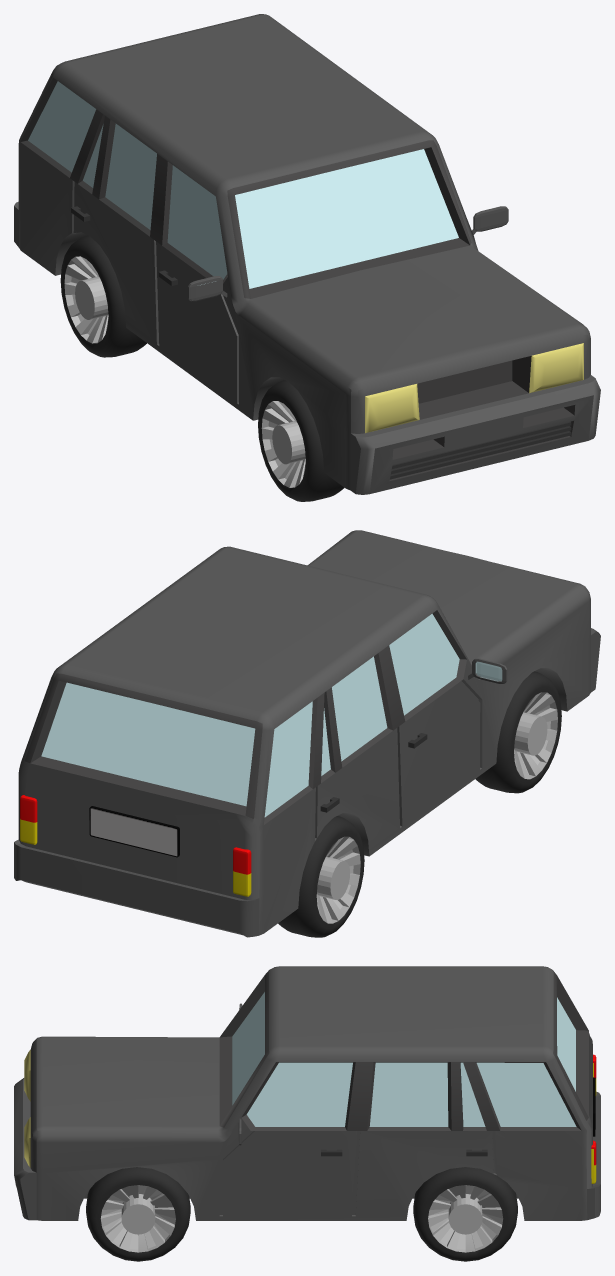
The model's file is Jhaylux.fbx.
The picture shows the model from 3 angles, top to bottom: view 1: azimuth 30°, elevation 25°; view 2: azimuth 150°, elevation 25°; view 3: azimuth 270°, elevation 25°; orthographic projection. The views are drawn at different scales.
Visible parts, largest first — view 1: polySurface5, pasted__wheel3, pasted__wheel4, pCube5, pCube6, pCube7, pCube33, pCube32; view 2: polySurface5, pasted__wheel4, pasted__wheel3, pasted__Liscense_Plate10, pCube11, pCube34, pCube32; view 3: polySurface5, pasted__wheel1, pasted__wheel5.
Part boxes in pixels (bbox=[...]): polySurface5: bbox=[14, 14, 600, 494]; pasted__wheel3: bbox=[258, 380, 344, 501]; pasted__wheel4: bbox=[60, 235, 146, 357]; pCube5: bbox=[390, 431, 571, 479]; pCube6: bbox=[391, 426, 571, 474]; pCube7: bbox=[392, 421, 571, 468]; pCube33: bbox=[472, 206, 508, 234]; pCube32: bbox=[188, 276, 227, 301]; polySurface5: bbox=[14, 530, 600, 937]; pasted__wheel4: bbox=[278, 816, 364, 937]; pasted__wheel3: bbox=[475, 671, 561, 793]; pasted__Liscense_Plate10: bbox=[89, 806, 179, 857]; pCube11: bbox=[233, 847, 251, 896]; pCube34: bbox=[20, 795, 37, 844]; pCube32: bbox=[468, 658, 507, 683]; polySurface5: bbox=[14, 966, 600, 1220]; pasted__wheel1: bbox=[86, 1167, 190, 1261]; pasted__wheel5: bbox=[413, 1167, 517, 1261].
Bounding box in the file's own units: 3.45 × 2.64 × 6.63.
6 materials, 5 textured.
